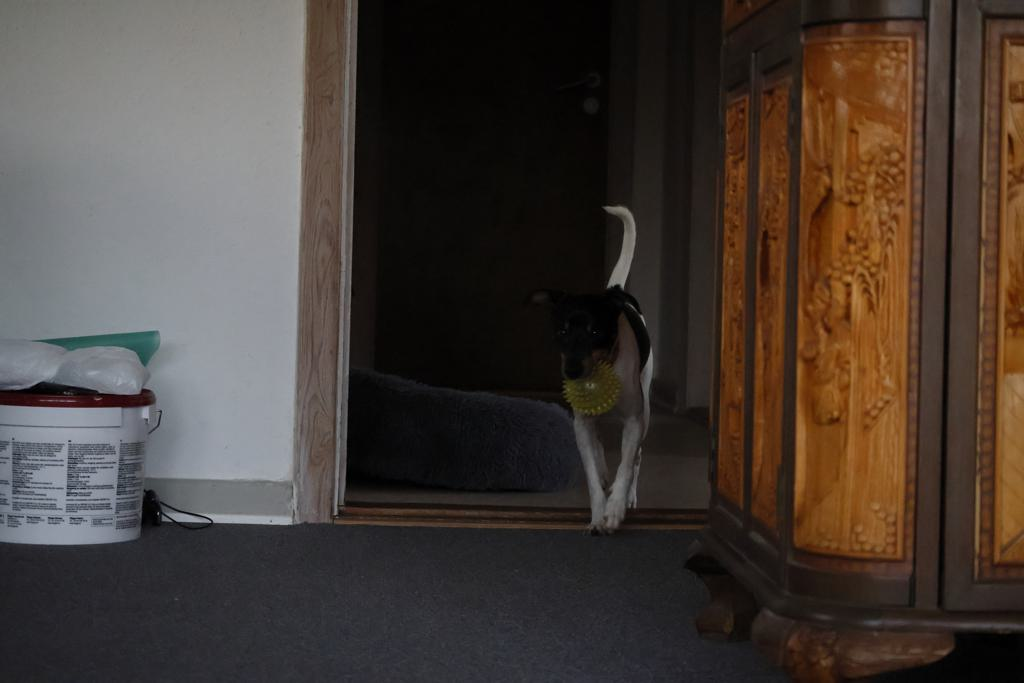Dog: (520, 195, 667, 544)
